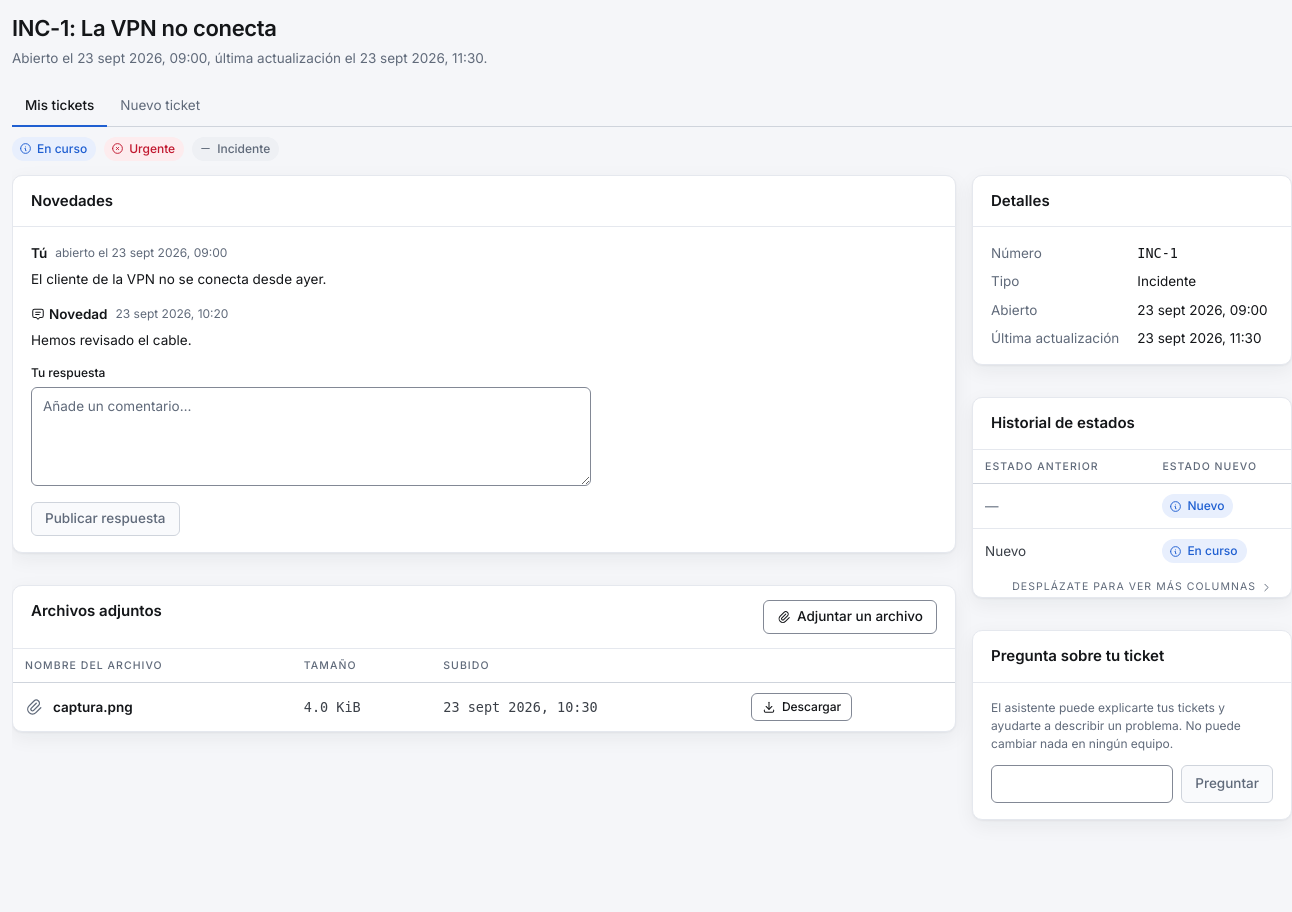
Test case: a portal ticket's page in Spanish › posts a reply and words a failure
In the text box labelled "Tu respuesta": [311, 436] box [31,387,591,486], type "Sigue sin ir"
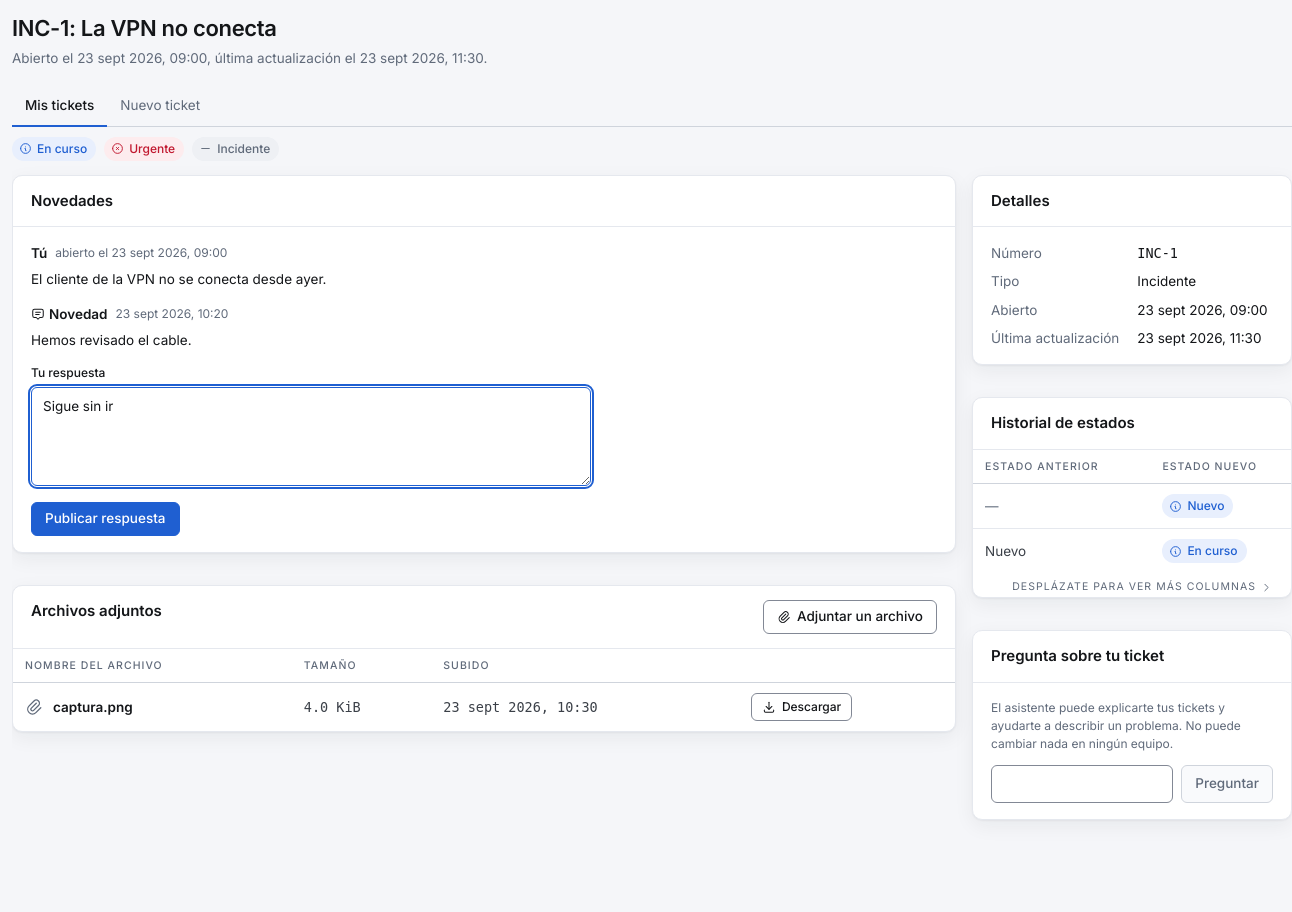
Click the button "Publicar respuesta": [105, 519] box [31,502,180,536]
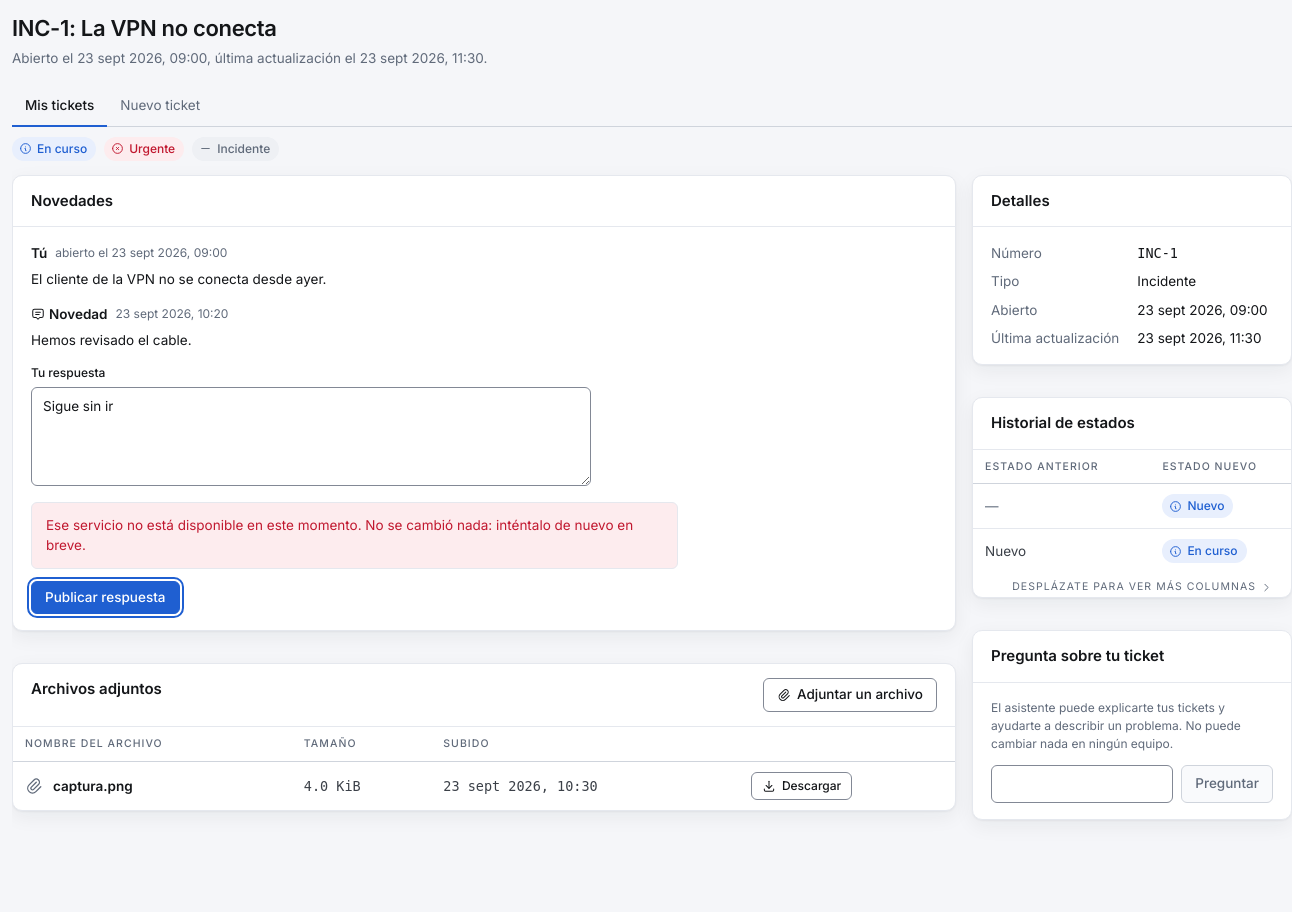
Now the message is shown, box [31,502,678,568]
